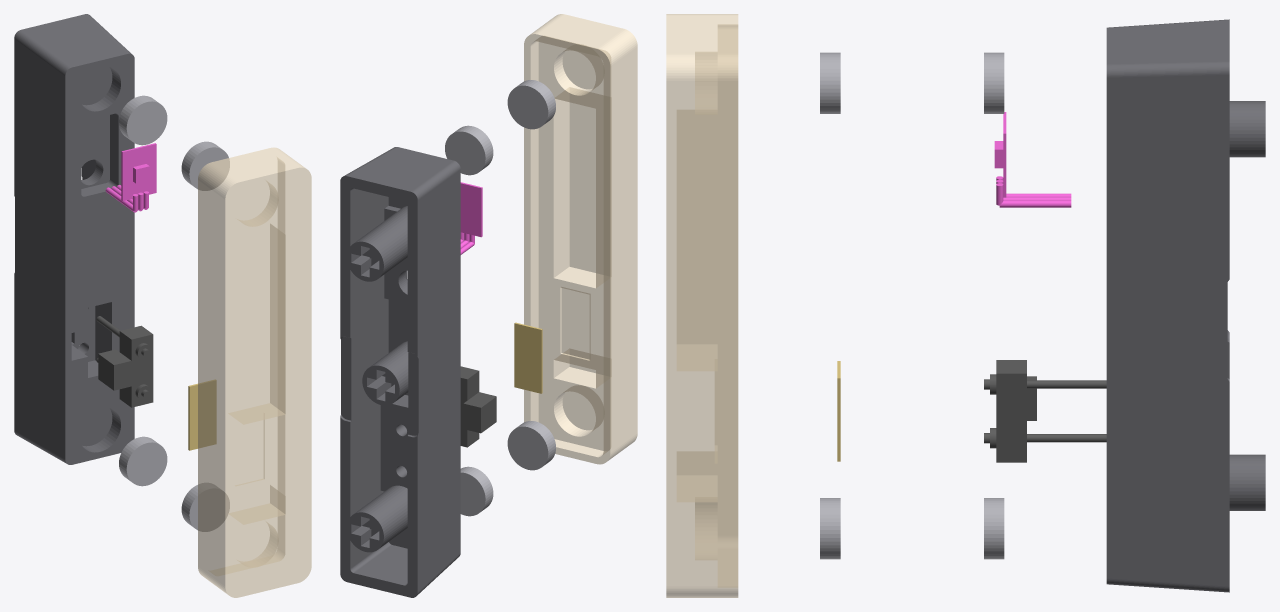
File: key_exploded.glb
The picture shows the model from 3 angles, left to right: view 1: azimuth 30°, elevation 25°; view 2: azimuth 150°, elevation 25°; view 3: azimuth 270°, elevation 25°; orthographic projection. The views are drawn at different scales.
Visible parts, largest first — view 1: 5_topper, 4_key, 4b_magnets_key, 5a_magnets_topper, 4c_pogo_connector, 4a_rgb_led_strip_piece, 5b_short_plate; view 2: 4_key, 5_topper, 5a_magnets_topper, 4b_magnets_key, 4c_pogo_connector, 5b_short_plate, 4a_rgb_led_strip_piece; view 3: 4_key, 5_topper, 4c_pogo_connector, 5a_magnets_topper, 4b_magnets_key, 4a_rgb_led_strip_piece.
Part boxes in pixels (x1,y1,x2,y2): 5_topper: (198, 147, 311, 597); 4_key: (14, 14, 134, 464); 4b_magnets_key: (119, 95, 167, 486); 5a_magnets_topper: (181, 141, 229, 531); 4c_pogo_connector: (96, 316, 153, 407); 4a_rgb_led_strip_piece: (105, 143, 156, 212); 5b_short_plate: (188, 379, 216, 450); 4_key: (340, 147, 460, 597); 5_topper: (524, 14, 637, 464); 5a_magnets_topper: (507, 80, 555, 470); 4b_magnets_key: (445, 125, 493, 516); 4c_pogo_connector: (460, 366, 496, 447); 5b_short_plate: (514, 322, 542, 393); 4a_rgb_led_strip_piece: (460, 182, 482, 254); 4_key: (1106, 19, 1265, 592); 5_topper: (666, 14, 738, 597); 4c_pogo_connector: (984, 360, 1106, 462); 5a_magnets_topper: (820, 52, 840, 559); 4b_magnets_key: (984, 52, 1004, 559); 4a_rgb_led_strip_piece: (994, 112, 1071, 207).
Bounding box in the file's own units: 12.73 × 58.45 × 58.5.
